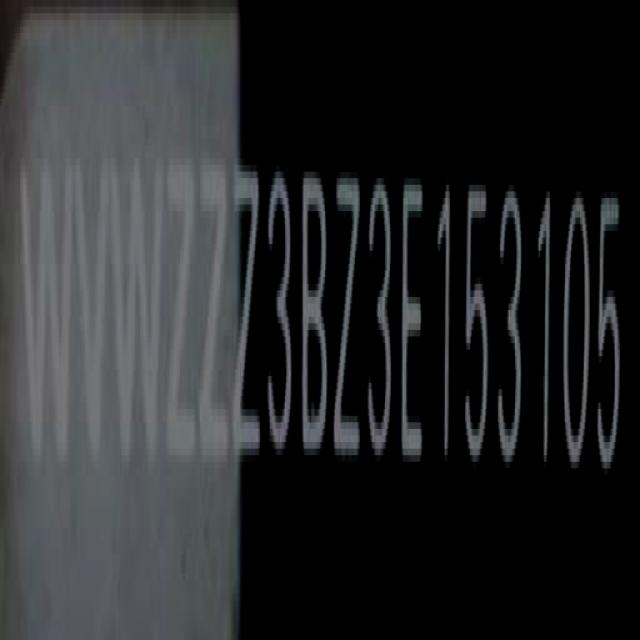0: (564, 186, 592, 481)
1: (434, 167, 454, 476), (534, 177, 553, 481)
3: (266, 159, 294, 467), (500, 179, 527, 480), (368, 168, 394, 473)
5: (464, 168, 492, 476), (598, 181, 624, 482)
B: (298, 166, 329, 472)
E: (401, 166, 426, 474)
V: (75, 161, 110, 462)
W: (111, 153, 165, 485), (21, 134, 73, 469)
Z: (165, 159, 198, 464), (231, 151, 260, 474), (331, 152, 361, 460), (202, 151, 230, 476)
